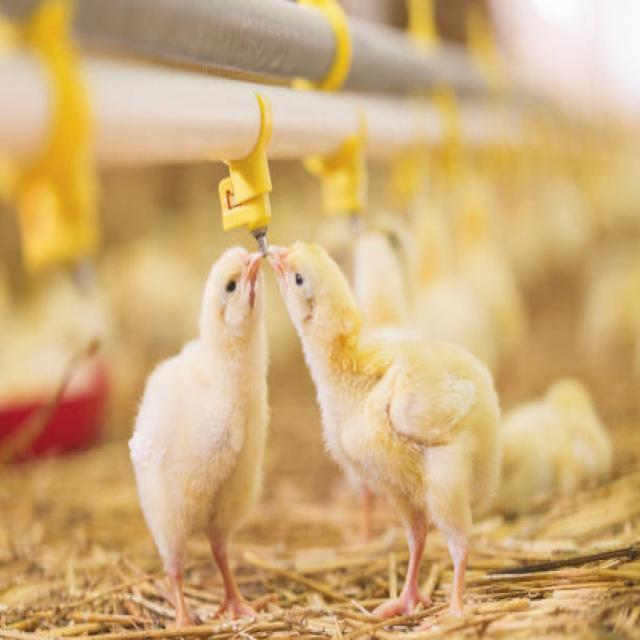Healthy: (268, 219, 503, 623), (109, 234, 274, 623)
